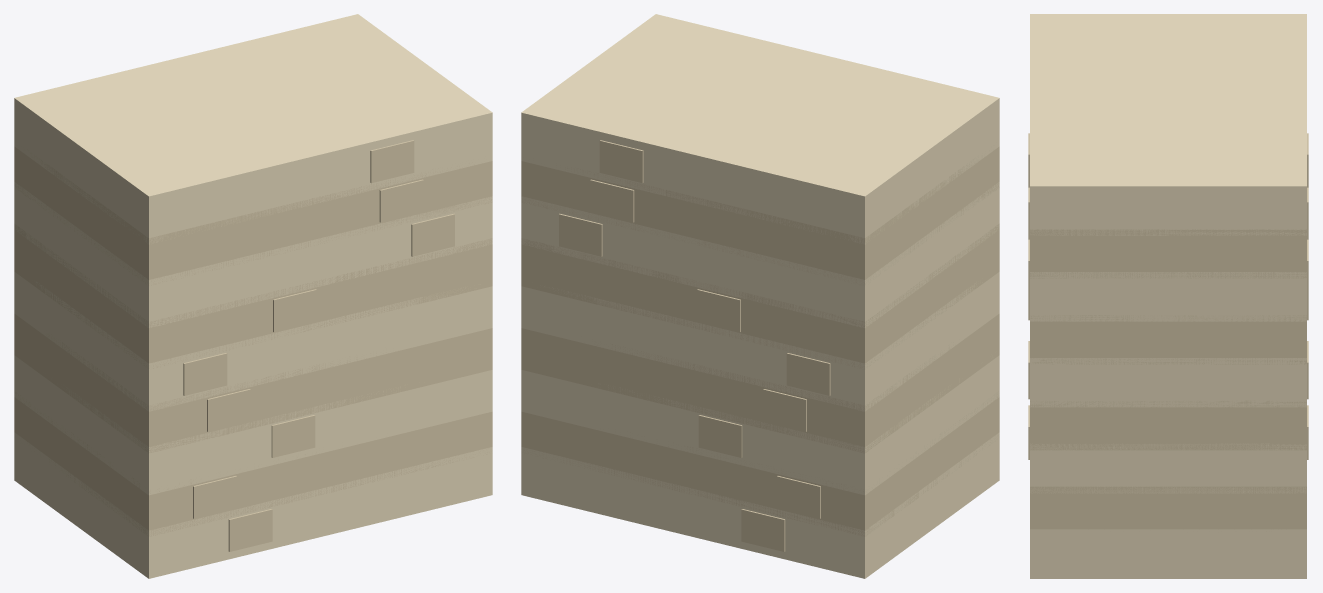
The model's file is mumia_tronco.glb.
The picture shows the model from 3 angles, left to right: view 1: azimuth 30°, elevation 25°; view 2: azimuth 150°, elevation 25°; view 3: azimuth 270°, elevation 25°; orthographic projection. The views are drawn at different scales.
Visible parts, largest first — view 1: mumia_tronco; view 2: mumia_tronco; view 3: mumia_tronco.
Part boxes in pixels (box(x1,y1,x2,y2)): mumia_tronco: box(14, 14, 492, 578); mumia_tronco: box(521, 14, 999, 578); mumia_tronco: box(1028, 14, 1308, 578).
Bounding box in the file's own units: 0.56 × 0.5951 × 0.385.
